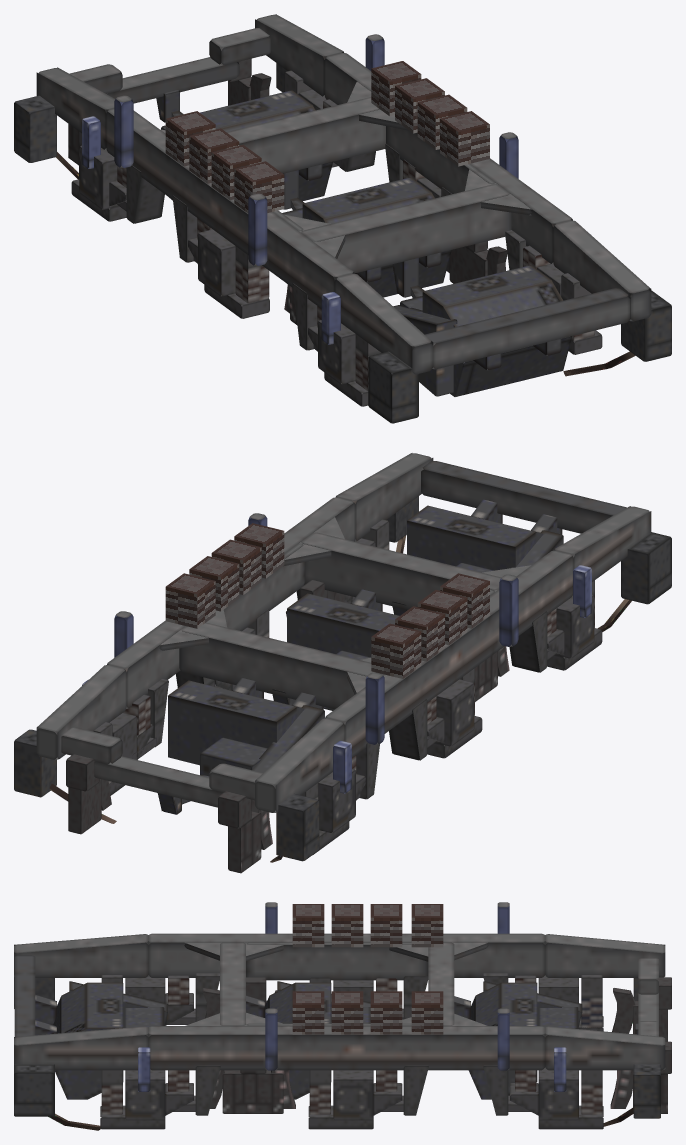
The picture shows the model from 3 angles, top to bottom: view 1: azimuth 30°, elevation 25°; view 2: azimuth 150°, elevation 25°; view 3: azimuth 270°, elevation 25°; orthographic projection. The views are drawn at different scales.
Visible parts, largest first — view 1: cube_48, cube_49, cube_4, cube_51, cube_50, cube_64, cube, cube_16, cube_31, cube_19, cube_37, cube_54 (+40 smaller); view 2: cube_48, cube_50, cube_49, cube_37, cube_51, cube_4, cube_64, cube_31, cube_1, cube_19, cube_16, cube (+42 smaller); view 3: cube_64, cube_48, cube_52, cube_16, cube, cube_19, cube_1, cube_4, cube_37, cube_80, cube_49, cube_84 (+62 smaller).
Boxes of the visible parts, box(x1,y1,x2,y2) form: cube_48: box(106, 108, 354, 308); cube_49: box(301, 184, 511, 273); cube_4: box(422, 265, 572, 396); cube_51: box(425, 288, 630, 369); cube_50: box(227, 97, 385, 173); cube_64: box(324, 53, 572, 264); cube: box(334, 273, 433, 374); cube_16: box(553, 220, 651, 321); cube_31: box(302, 177, 451, 297); cube_19: box(255, 14, 343, 96); cube_37: box(200, 90, 332, 200); cube_54: box(106, 57, 239, 103); cube_48: box(325, 550, 573, 757); cube_50: box(179, 622, 382, 709); cube_49: box(301, 532, 500, 609); cube_37: box(168, 680, 304, 765); cube_51: box(421, 461, 626, 533); cube_4: box(407, 505, 543, 570); cube_64: box(107, 497, 355, 708); cube_31: box(287, 593, 399, 657); cube_1: box(255, 718, 344, 812); cube_19: box(36, 665, 126, 759); cube_16: box(336, 453, 433, 541); cube: box(554, 506, 651, 581); cube_64: box(148, 1026, 545, 1070); cube_48: box(148, 933, 545, 977); cube_52: box(246, 942, 428, 980); cube_16: box(14, 1026, 148, 1070); cube: box(14, 934, 148, 977); cube_19: box(545, 1026, 665, 1070); cube_1: box(545, 934, 665, 977); cube_4: box(53, 982, 123, 1099); cube_37: box(468, 982, 537, 1099); cube_80: box(222, 1070, 283, 1113); cube_49: box(220, 942, 245, 1025); cube_84: box(14, 1064, 54, 1116).
Bounding box in the file's own units: 4460 × 2371 × 10120.
6 materials, 6 textured.
